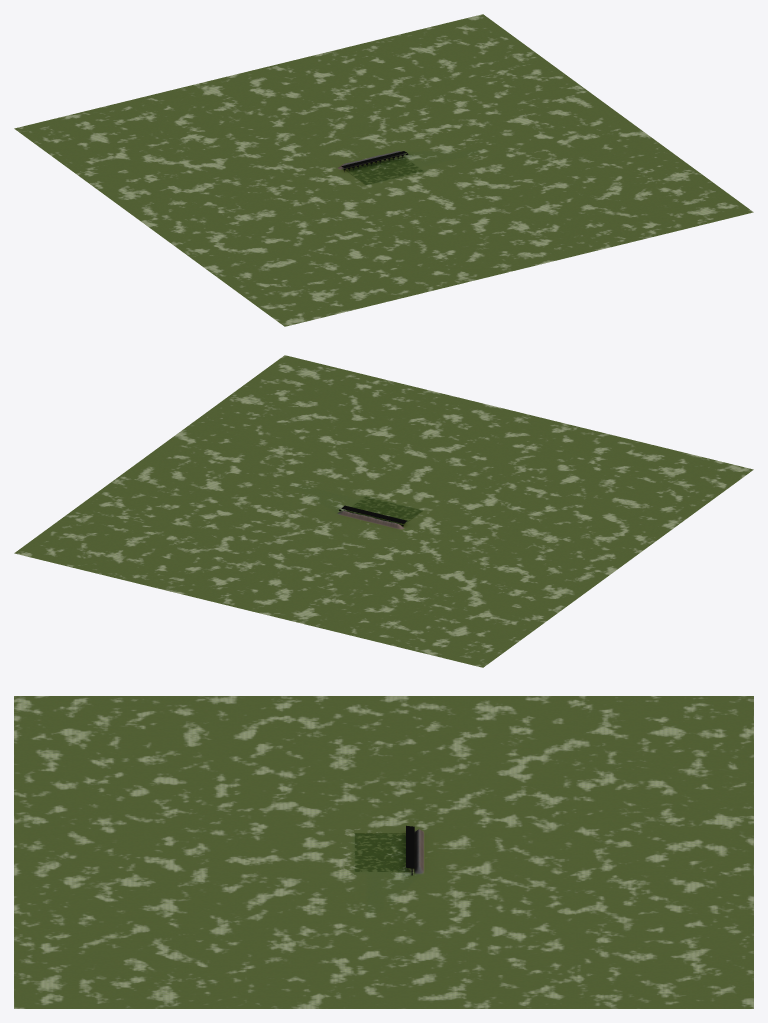
File: env_outdoor_04.glb
The picture shows the model from 3 angles, top to bottom: view 1: azimuth 30°, elevation 25°; view 2: azimuth 150°, elevation 25°; view 3: azimuth 270°, elevation 25°; orthographic projection. The views are drawn at different scales.
Parts seen in each view (by area): view 1: ground_mid, ground_near_0, ground_near_2; view 2: ground_mid, ground_near_0, ground_near_2; view 3: ground_mid, ground_near_0, ground_near_2, ground_near_3, ground_near_1.
Part boxes in pixels (bbox=[...]): ground_mid: bbox=[14, 14, 753, 326]; ground_near_0: bbox=[348, 170, 399, 190]; ground_near_2: bbox=[384, 162, 435, 182]; ground_mid: bbox=[14, 355, 753, 667]; ground_near_0: bbox=[384, 499, 435, 519]; ground_near_2: bbox=[348, 491, 399, 511]; ground_mid: bbox=[14, 696, 753, 1008]; ground_near_0: bbox=[340, 828, 383, 852]; ground_near_2: bbox=[340, 852, 383, 876]; ground_near_3: bbox=[384, 852, 427, 876]; ground_near_1: bbox=[384, 828, 427, 852].
Size of what is drawn, in the model's own units: 420 by 3.69 by 420.
Materials: 8 (8 with a texture image).
